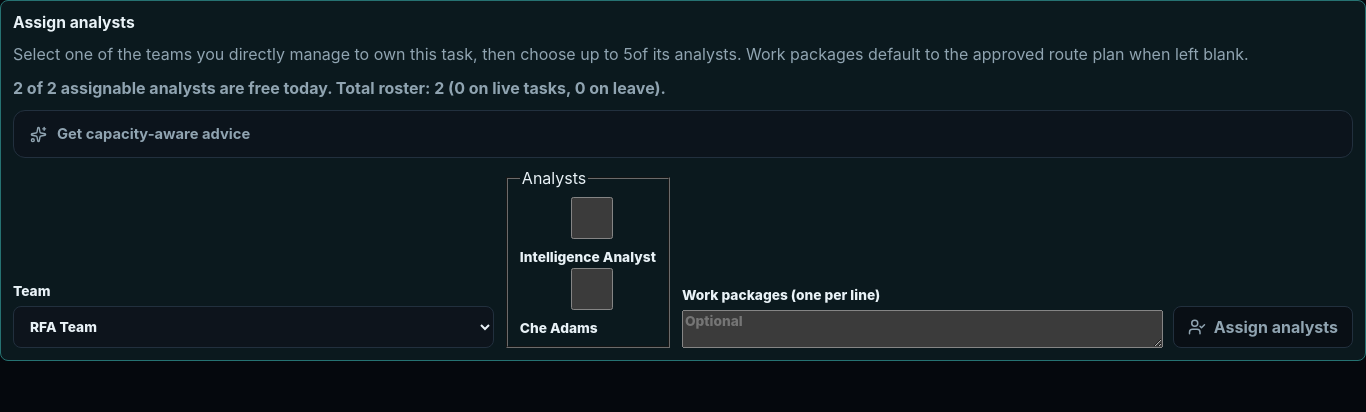
Test: refreshes availability when a selected analyst becomes unavailable
What coordinates should you click on to do the following:
click the checkbox labelled "Intelligence Analyst"
I would click on:
 (592, 218)
Its box is 524,197 -> 660,239.
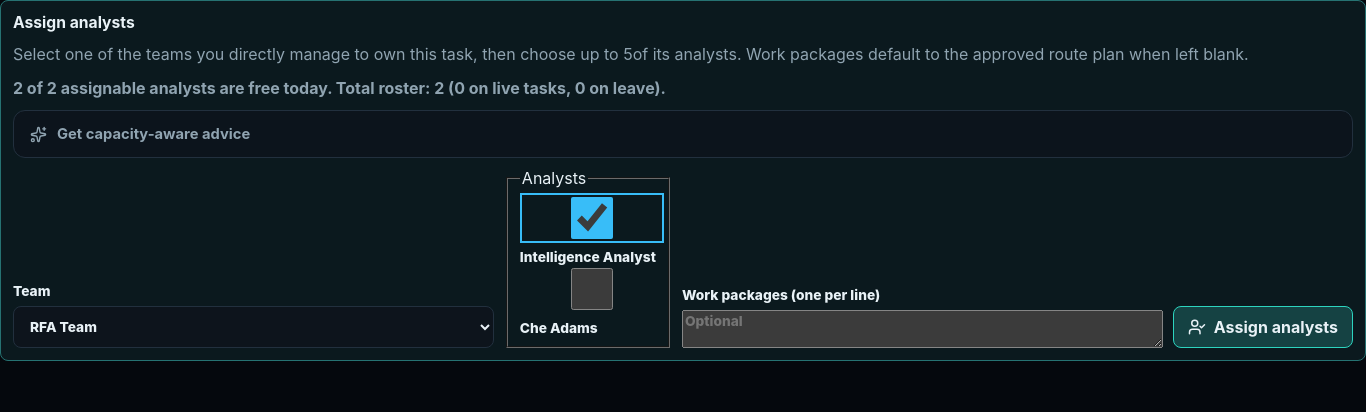
What coordinates should you click on to do the following:
click the button "Assign analysts"
I would click on:
 (1263, 327)
Its box is 1173,306 -> 1353,348.
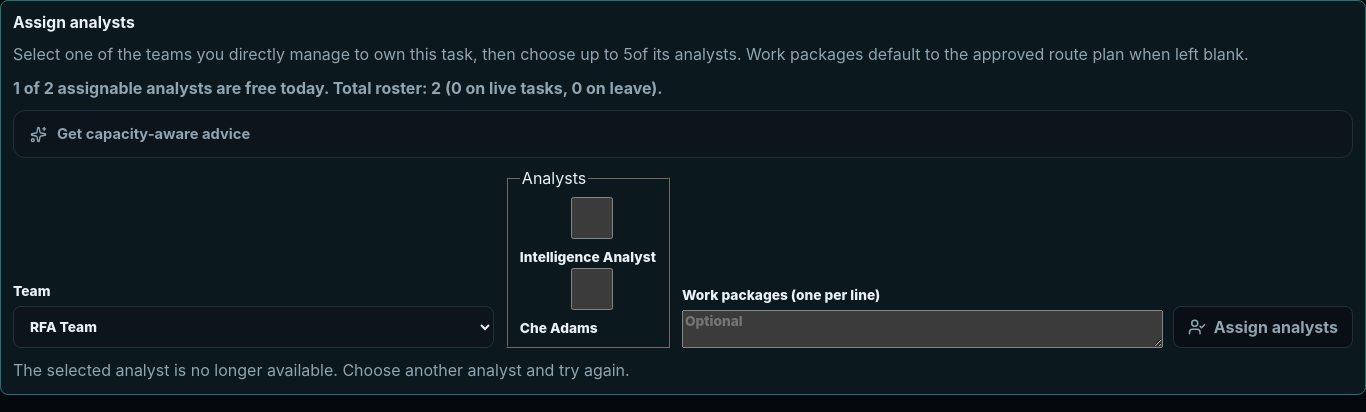
expect the text "The selected analyst is no longer available. Choose another analyst and try again." is shown: met, box 13,360 -> 630,380
expect the button "Assign analysts" is disabled: met, box 1173,306 -> 1353,348
